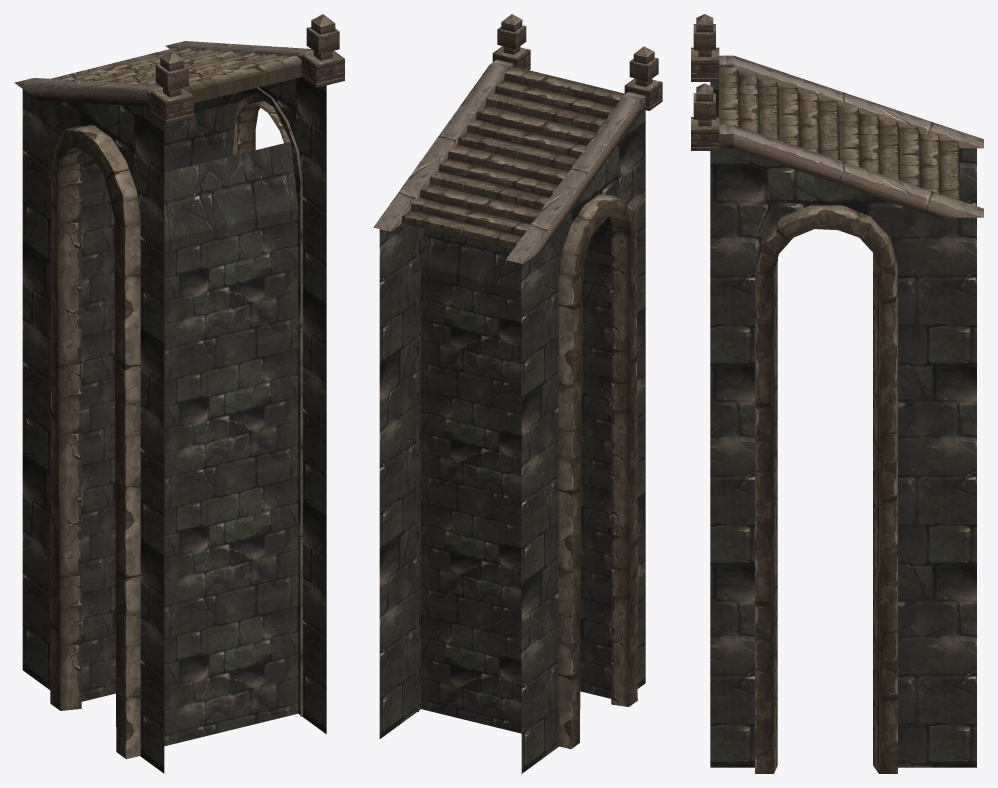
The model's file is stair_4_under.FBX.
3 views of the same model, side by side, from view 1: azimuth 30°, elevation 25°; view 2: azimuth 150°, elevation 25°; view 3: azimuth 270°, elevation 25° (orthographic). The views are drawn at different scales.
Parts seen in each view (by area): view 1: stair_4_under; view 2: stair_4_under; view 3: stair_4_under.
Part boxes in pixels (left/top/right/bottom): stair_4_under: left=14, top=14, right=344, bottom=773; stair_4_under: left=373, top=14, right=662, bottom=773; stair_4_under: left=691, top=14, right=983, bottom=773.
Size of the model in its own units: 5.75 by 19.69 by 7.66.
